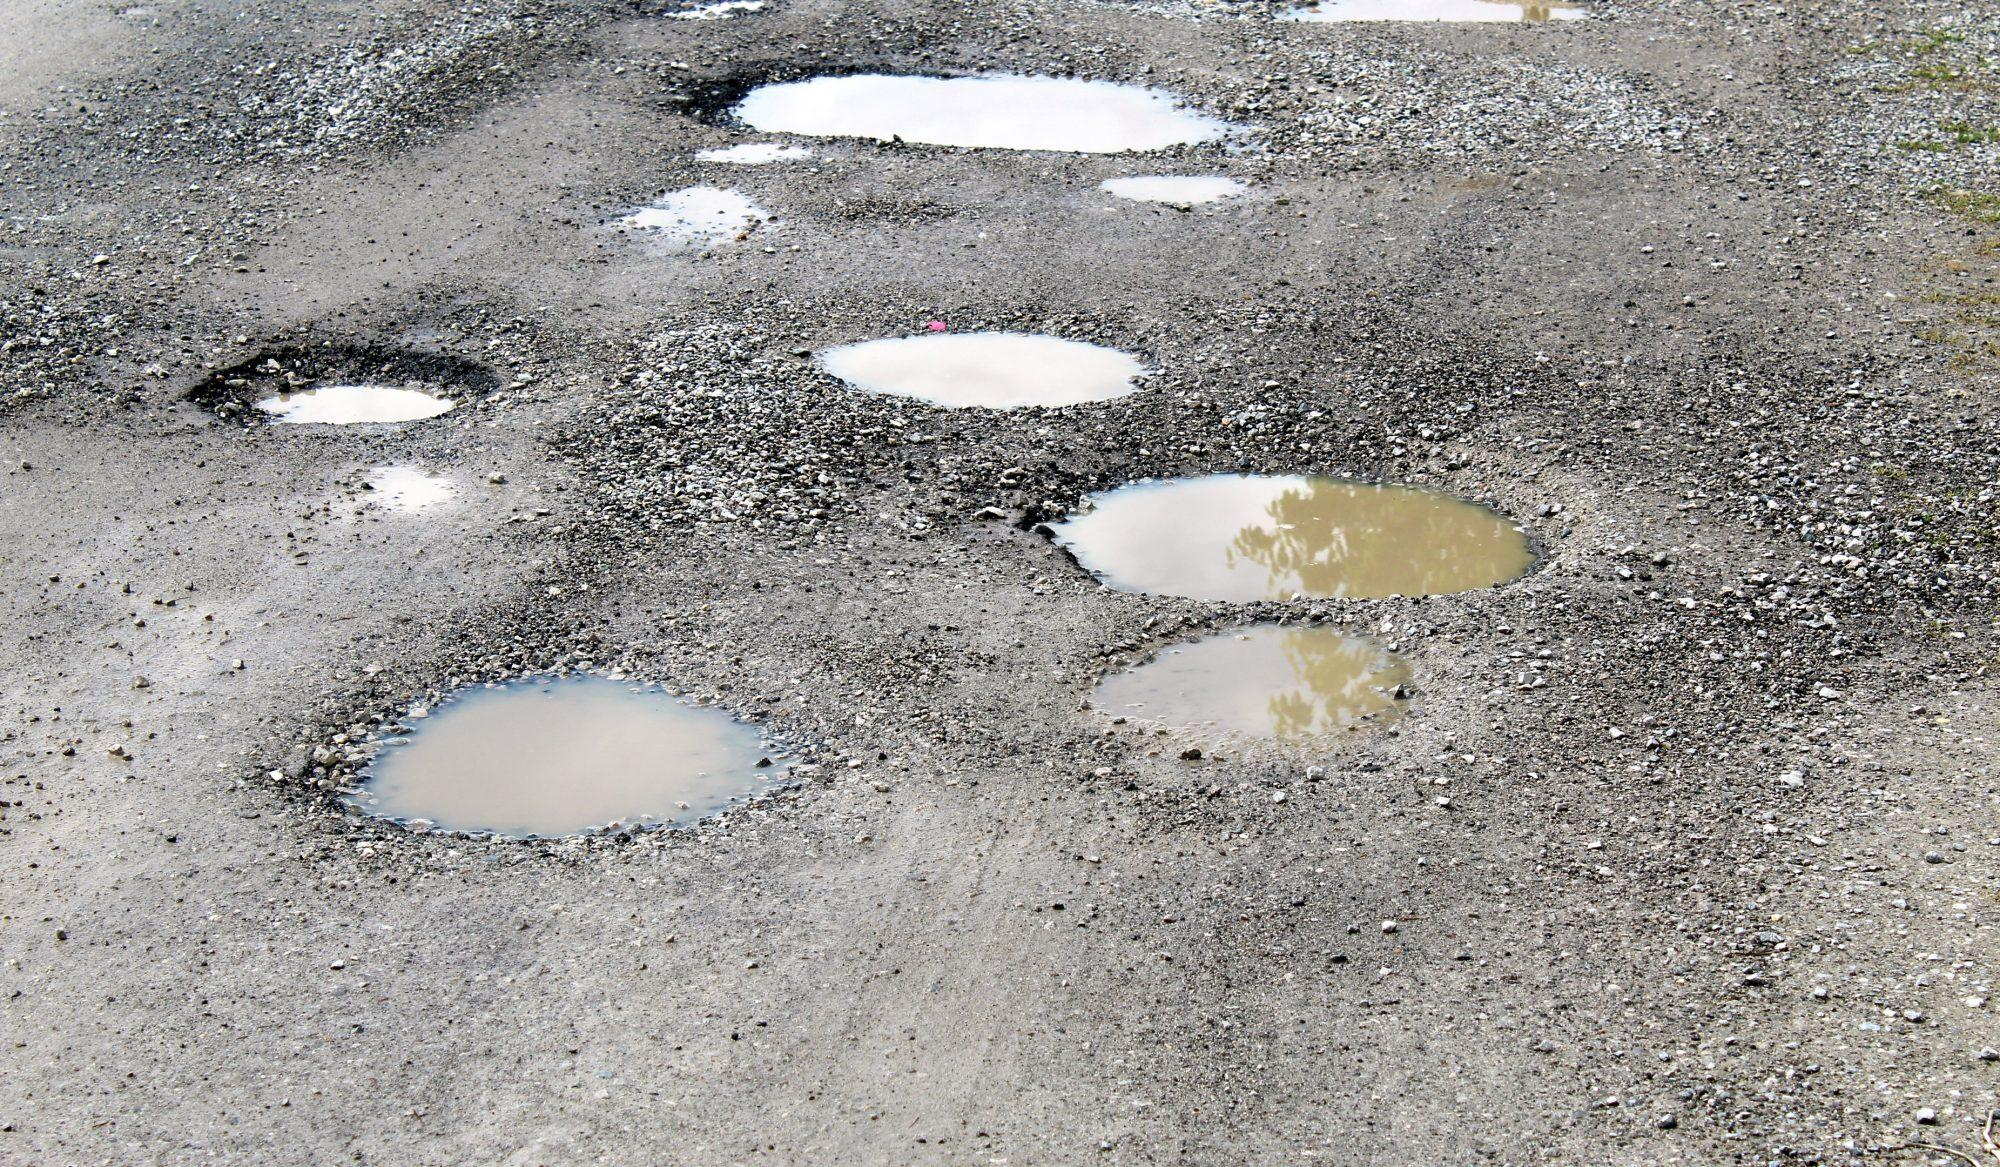Pothole: (601, 31, 1317, 274), (271, 640, 844, 842), (1018, 440, 1590, 617), (1083, 614, 1458, 793), (156, 310, 542, 470), (811, 308, 1158, 420)
